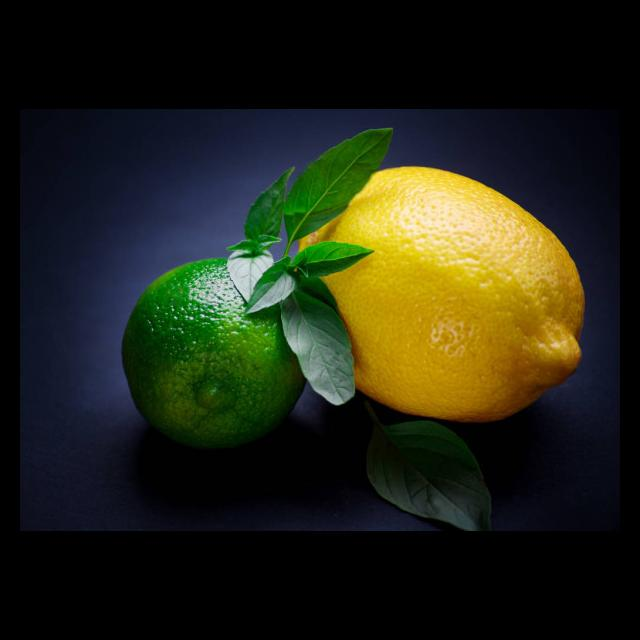lime: (117, 247, 311, 455)
